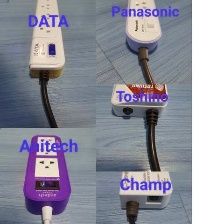three_eye_plug: (20, 132, 76, 220), (26, 0, 67, 81), (115, 170, 178, 213), (120, 0, 164, 59), (109, 83, 171, 124)
